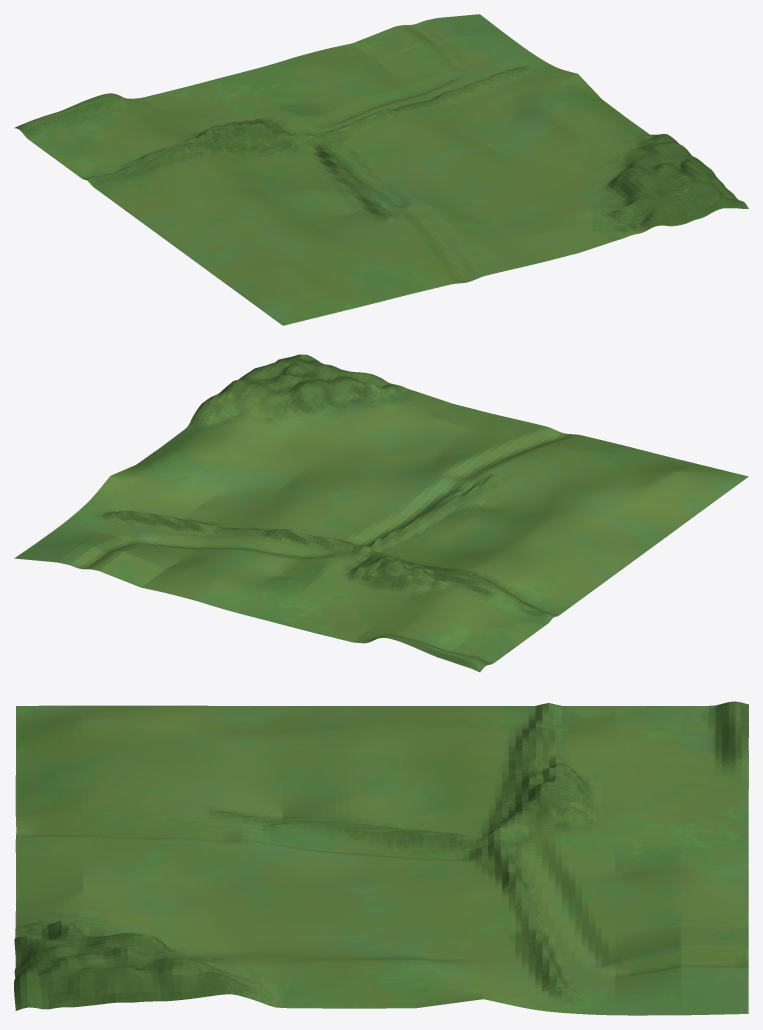
File: standin-sky.gltf
3 renders of one model, top to bottom at view 1: azimuth 30°, elevation 25°; view 2: azimuth 150°, elevation 25°; view 3: azimuth 270°, elevation 25°, orthographic. The views are drawn at different scales.
Parts seen in each view (by area): view 1: Plane; view 2: Plane; view 3: Plane.
Boxes of the visible parts, x1,y1,x2,y2 form: Plane: (14, 14, 748, 325); Plane: (14, 354, 748, 672); Plane: (14, 701, 748, 1015).
Bounding box in the file's own units: 997 × 64.32 × 995.
Materials: 1 (1 with a texture image).
